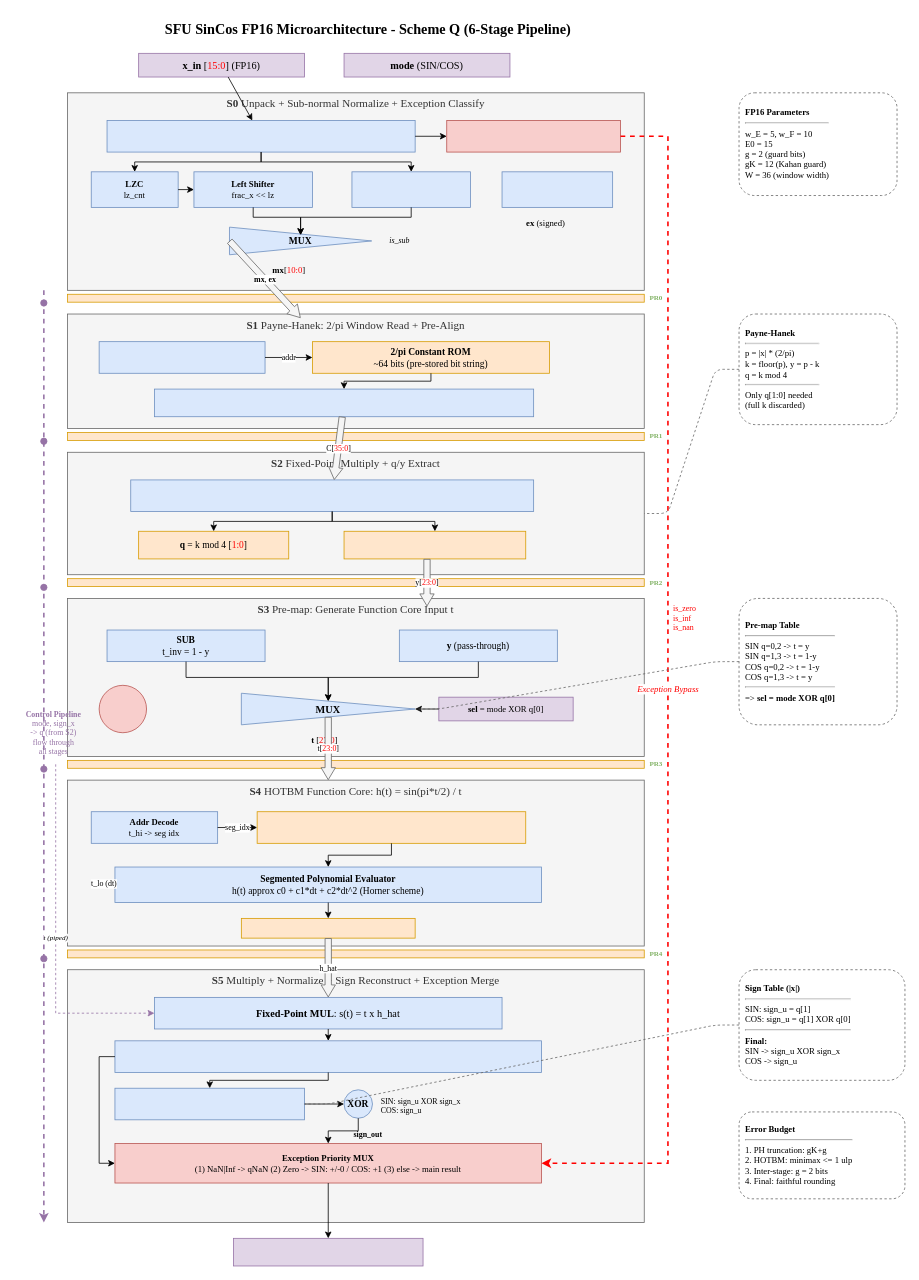
Image size: 919x1280. Some labels were removed from this diagram. Each missing label, with the centre of its shape:
"Bit-field Splitter sign_x [ 15 ] | exp_x [ 14:10 ] | frac_x [ 9:0 ]" belongs at (260,136).
"Coefficient LUT / ROM minimax coefficients per segment" belongs at (391,827).
"ex calc e-15 / -14-lz" belongs at (557,189).
"Exception Classify is_zero | is_inf | is_nan | is_sub" belongs at (533,136).
"Fixed-Point Multiplier : P = mx [ 10:0 ] x C [ 35:0 ]" belongs at (332,495).
"h_hat [ Q2.14 ]" belongs at (328,928).
"Normal Path {1'b1, frac_x}" belongs at (410,189).
"Normalize + Faithful Round -> FP16 mantissa [ 9:0 ] + exp [ 4:0 ]" belongs at (328,1056).
"Offset Calc addr = ex + 14" belongs at (181,357).
"result [ 15:0 ] (FP16)" belongs at (328,1252).
"Sign Reconstruct sign_u = f(mode, q)" belongs at (209,1103).
"t=0 ? bypass" belongs at (122,709).
"Window Extract : C [ 35:0 ] (W = 36 )" belongs at (344,402).
"y fractional [ 23:0 ]" belongs at (434,544).
